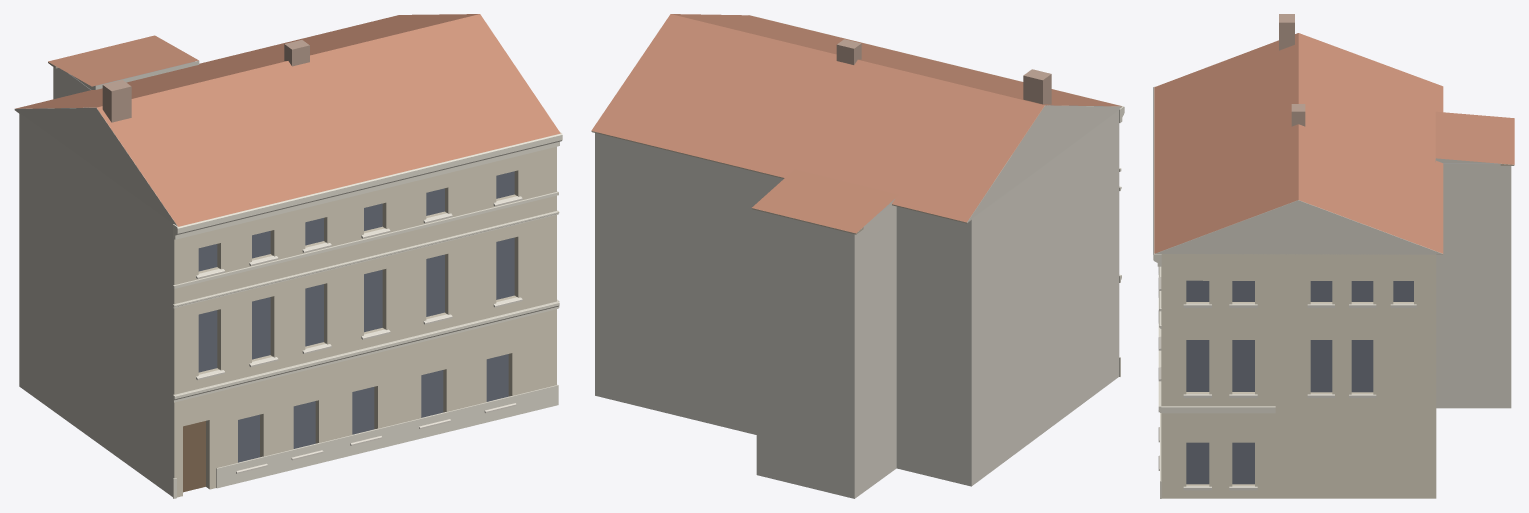
The picture shows the model from 3 angles, left to right: view 1: azimuth 30°, elevation 25°; view 2: azimuth 150°, elevation 25°; view 3: azimuth 270°, elevation 25°; orthographic projection. The views are drawn at different scales.
Parts seen in each view (by area): view 1: CP_671_Masonry, CP_671_Roof, CP_671_Cornice_plinth_1, CP_671_Gable_L_gable, CP_671_Cornice_main_0, CP_671_WingRoof_Stair, CP_671_Cornice_string_0, CP_671_Cornice_band_0, CP_671_Cornice_attic_band_0, CP_671_Chimney_0; view 2: CP_671_Masonry, CP_671_Roof, CP_671_WingRoof_Stair, CP_671_Gable_L_gable, CP_671_Chimney_0; view 3: CP_671_Masonry, CP_671_Roof, CP_671_Gable_R_gable, CP_671_WingRoof_Stair, CP_671_Cornice_side_ne_string, CP_671_Chimney_0, CP_671_Cornice_main_0.
Boxes of the visible parts, x1,y1,x2,y2 form: CP_671_Masonry: (19, 67, 556, 497); CP_671_Roof: (15, 14, 560, 226); CP_671_Cornice_plinth_1: (216, 384, 558, 488); CP_671_Gable_L_gable: (14, 107, 177, 226); CP_671_Cornice_main_0: (173, 131, 562, 239); CP_671_WingRoof_Stair: (48, 35, 198, 86); CP_671_Cornice_string_0: (173, 301, 559, 402); CP_671_Cornice_band_0: (173, 210, 559, 308); CP_671_Cornice_attic_band_0: (173, 191, 558, 288); CP_671_Chimney_0: (102, 80, 131, 122); CP_671_Masonry: (595, 110, 1119, 498); CP_671_Roof: (591, 14, 1121, 222); CP_671_WingRoof_Stair: (752, 169, 898, 233); CP_671_Gable_L_gable: (960, 105, 1121, 222); CP_671_Chimney_0: (1023, 69, 1051, 104); CP_671_Masonry: (1161, 163, 1511, 498); CP_671_Roof: (1154, 33, 1443, 253); CP_671_Gable_R_gable: (1155, 200, 1442, 254); CP_671_WingRoof_Stair: (1435, 111, 1514, 164); CP_671_Cornice_side_ne_string: (1161, 406, 1275, 413); CP_671_Chimney_0: (1279, 14, 1294, 50); CP_671_Cornice_main_0: (1153, 86, 1161, 266).
Bounding box in the file's own units: 17.45 × 15.4 × 15.8.
